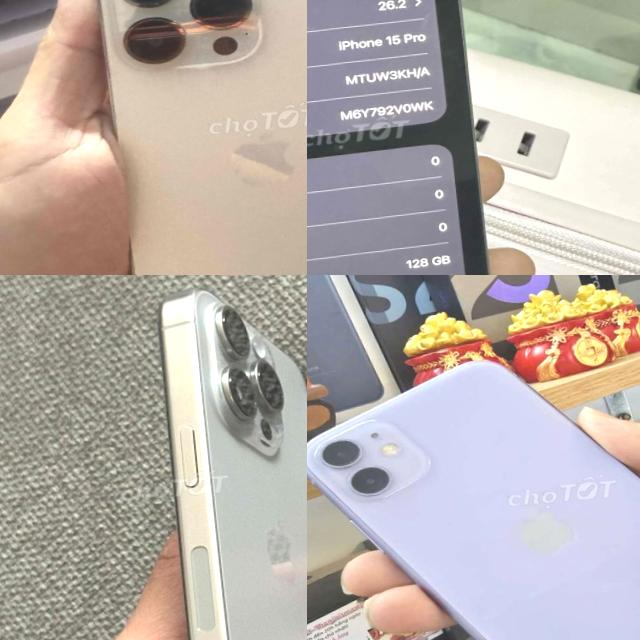gen_11: (307, 361, 640, 640)
gen_14: (78, 0, 307, 275)
gen_15: (119, 275, 307, 640), (307, 0, 512, 275)
